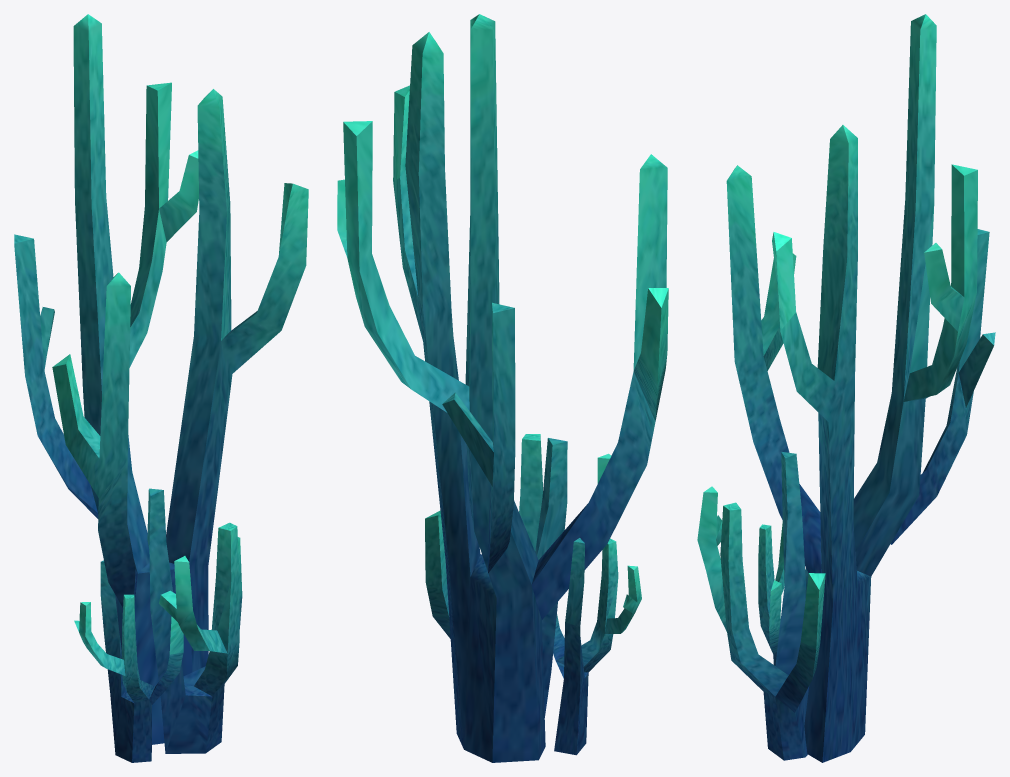
File: map_113_zhibei_2.fbx
3 views of the same model, side by side, from view 1: azimuth 30°, elevation 25°; view 2: azimuth 150°, elevation 25°; view 3: azimuth 270°, elevation 25° (orthographic). The views are drawn at different scales.
Parts seen in each view (by area): view 1: map_113_zhibei_2; view 2: map_113_zhibei_2; view 3: map_113_zhibei_2.
Part boxes in pixels (x1,y1,x2,y2): map_113_zhibei_2: [14, 14, 308, 762]; map_113_zhibei_2: [337, 14, 668, 762]; map_113_zhibei_2: [697, 14, 995, 762].
Size of the model in its own units: 0.956 by 2.57 by 0.9715.
